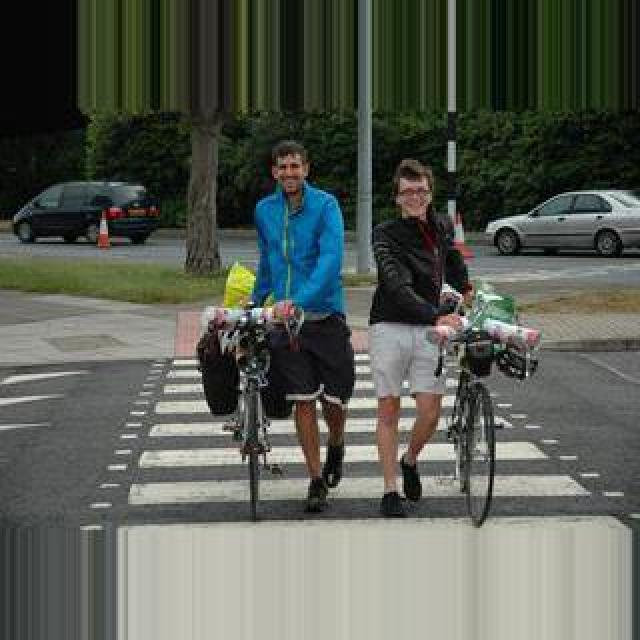Bus-Bike: (484, 192, 640, 258), (12, 182, 160, 246)
MC-Bike: (240, 140, 356, 516), (366, 152, 472, 516)
Person: (428, 318, 512, 526), (213, 307, 293, 519)
